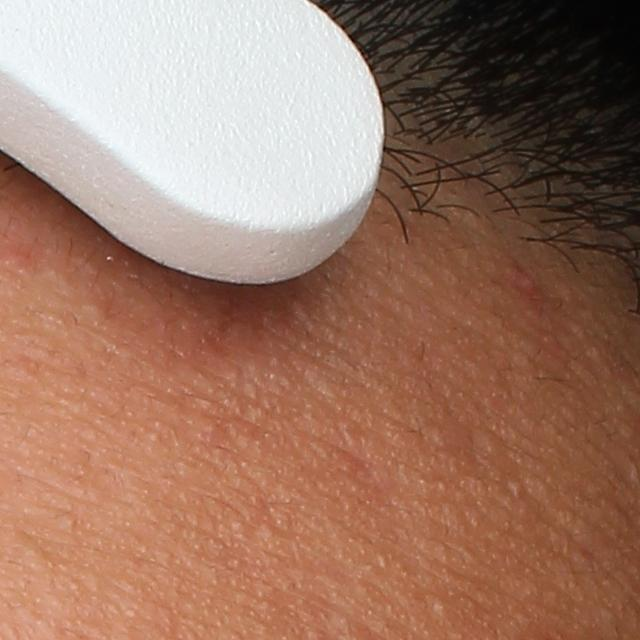comedo: (430, 598, 450, 622)
